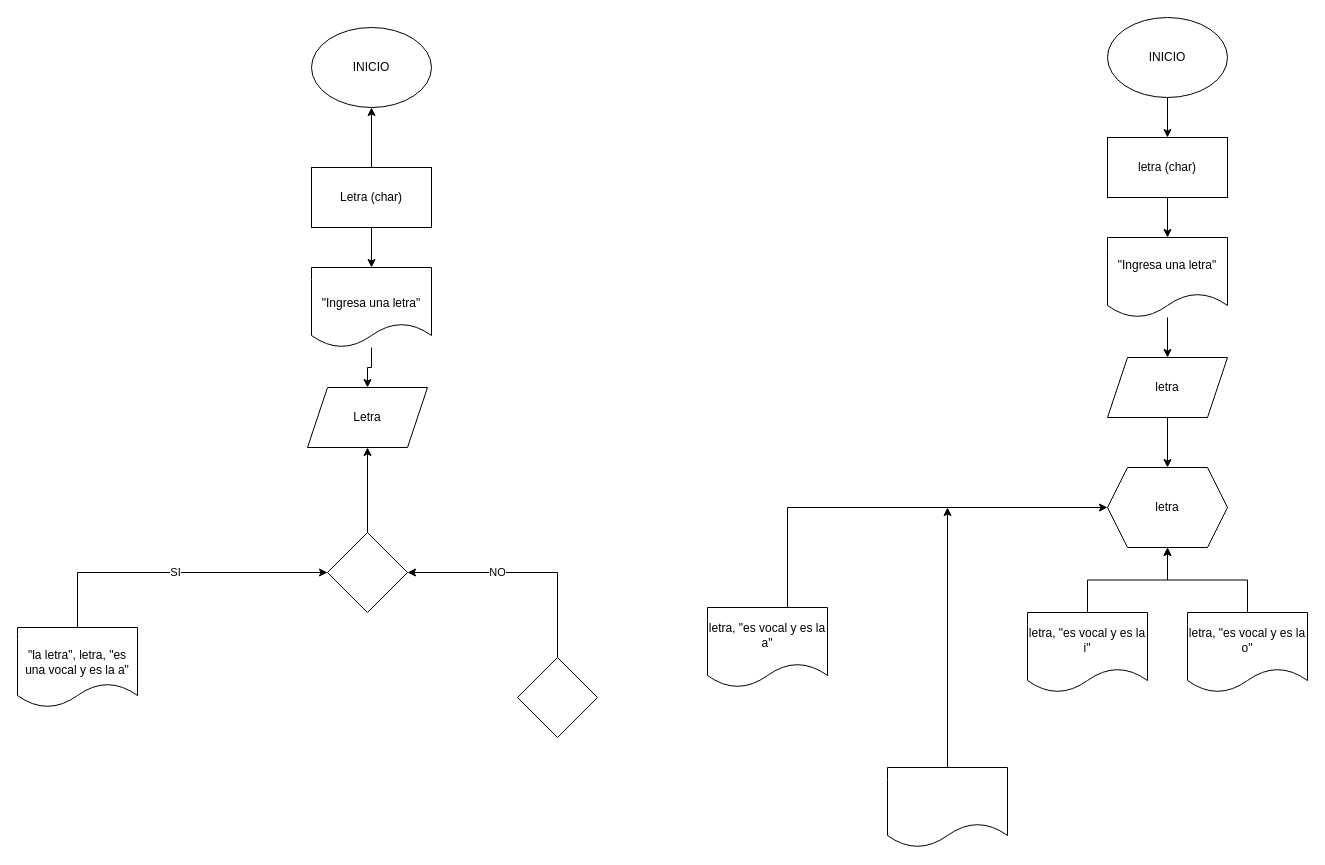
Image size: 1325x865. Some labels were removed from this diagram. The box of each missing label's shape, as (x1, y1, x2, y2) in pixels:
letra == "a": (326, 532, 408, 612)
letra, "es vocal y es la e": (886, 766, 1008, 848)
